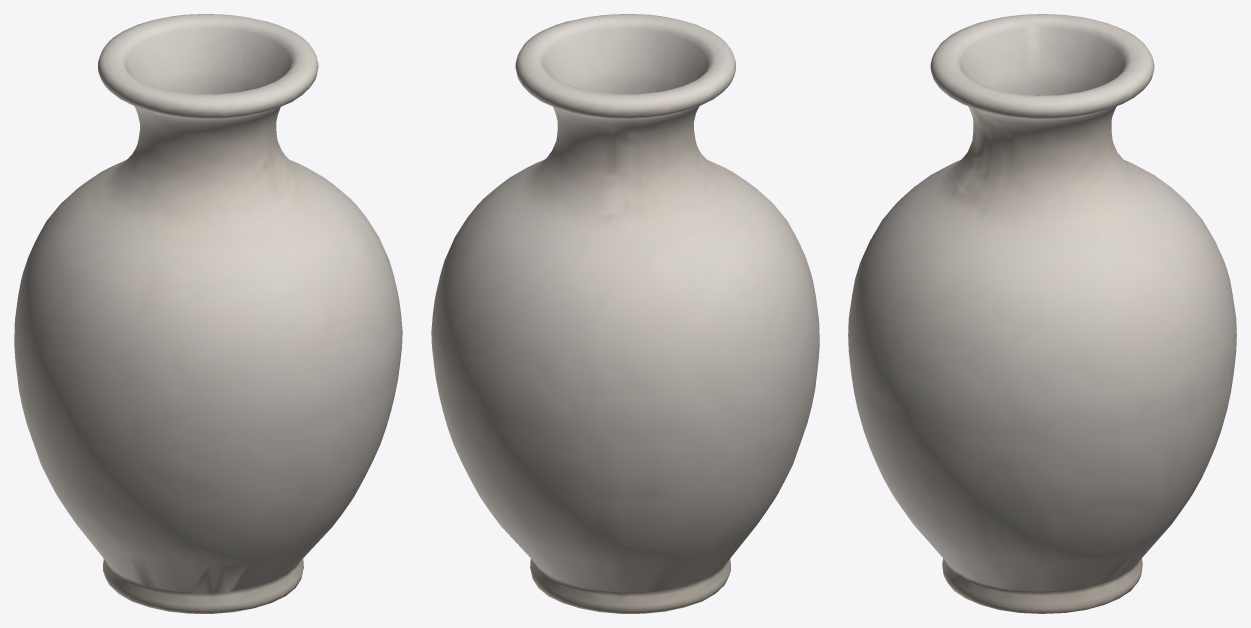
Rendered from Decor__a_ceramic_vase_e2f391f8_v3.cluster.glb.
The picture shows the model from 3 angles, left to right: view 1: azimuth 30°, elevation 25°; view 2: azimuth 150°, elevation 25°; view 3: azimuth 270°, elevation 25°; orthographic projection.
Visible parts, largest first — view 1: material; view 2: material; view 3: material.
Boxes of the visible parts, x1,y1,x2,y2 form: material: (14, 14, 402, 613); material: (431, 14, 819, 613); material: (848, 14, 1236, 613).
Bounding box in the file's own units: 1.3 × 1.9 × 1.29.
1 material, 1 textured.
